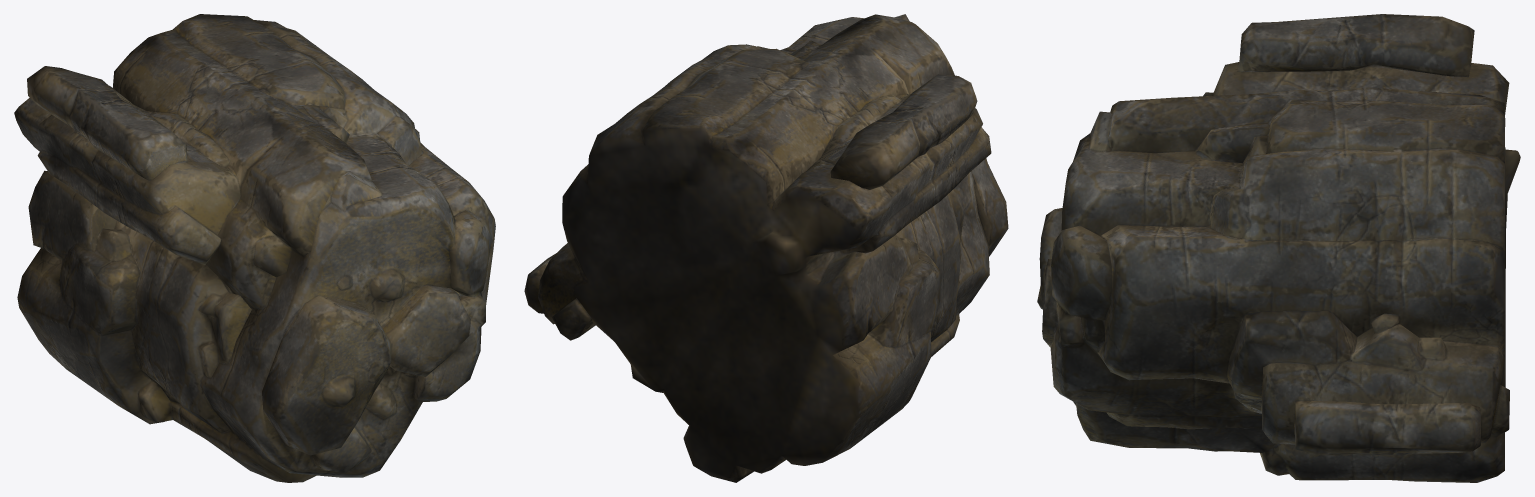
Rendered from rock_cliff_02.obj.
The picture shows the model from 3 angles, left to right: view 1: azimuth 30°, elevation 25°; view 2: azimuth 150°, elevation 25°; view 3: azimuth 270°, elevation 25°; orthographic projection. The views are drawn at different scales.
Parts seen in each view (by area): view 1: rock_cliff_02; view 2: rock_cliff_02; view 3: rock_cliff_02.
Part boxes in pixels (<box>): rock_cliff_02: <box>14,14,495,482</box>; rock_cliff_02: <box>524,14,1008,482</box>; rock_cliff_02: <box>1037,14,1520,482</box>.
Bounding box in the file's own units: 11.23 × 10.62 × 12.
Materials: 1 (1 with a texture image).
